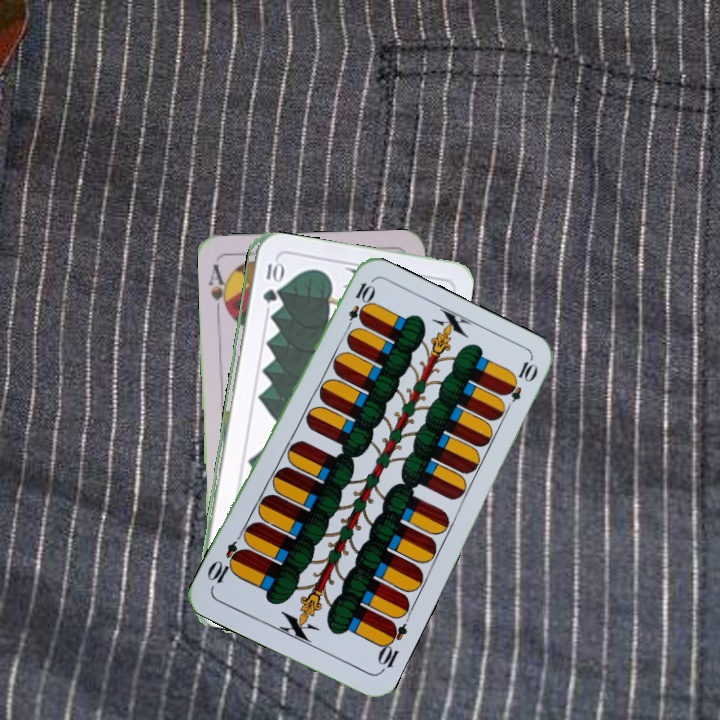E10: (373, 617, 410, 675), (341, 278, 376, 336)
G10: (259, 258, 281, 306)
SA: (205, 260, 233, 318)
